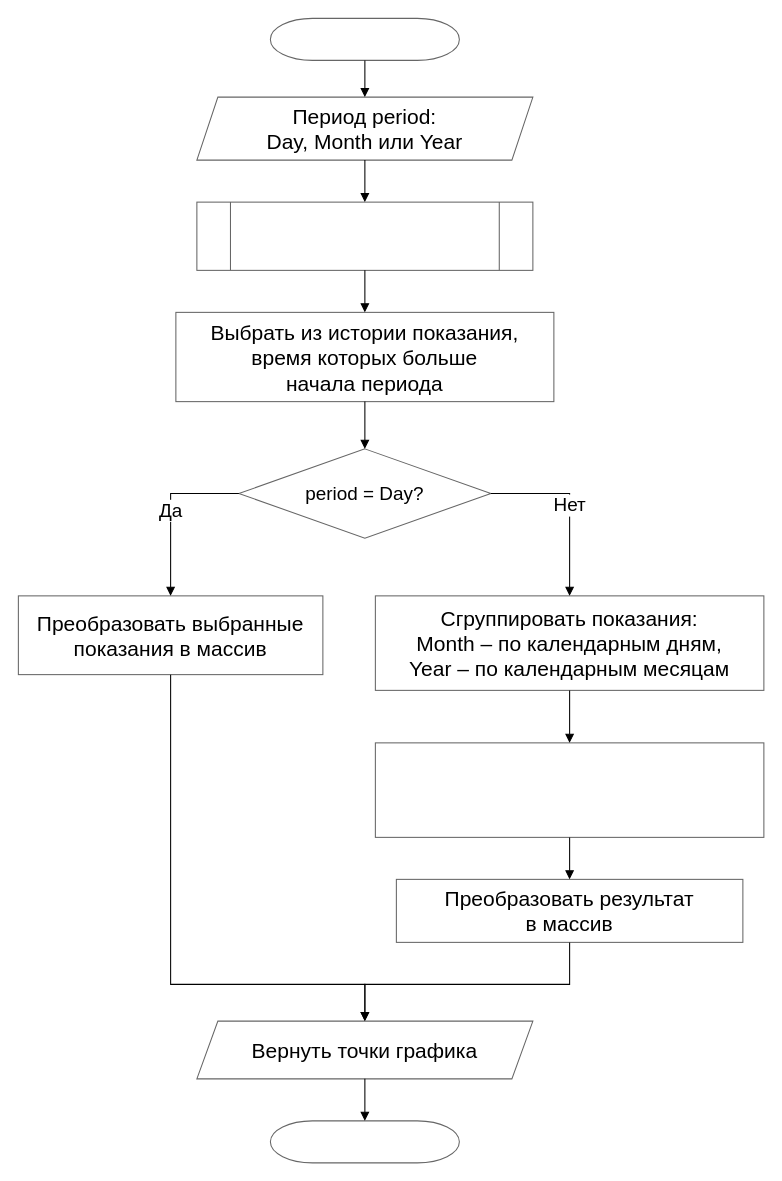
This 782x1181 diagram has some shape labels left out. Here are the shapes that lost their labels. From the top down, the box of each, then its label:
(269, 17, 459, 60): Начало
(196, 201, 533, 270): Начало периода: PeriodStart(period)
(374, 742, 764, 837): Для каждой группы: онлайн = округл.(среднее) время = последнее в группе
(269, 1120, 459, 1163): Конец
